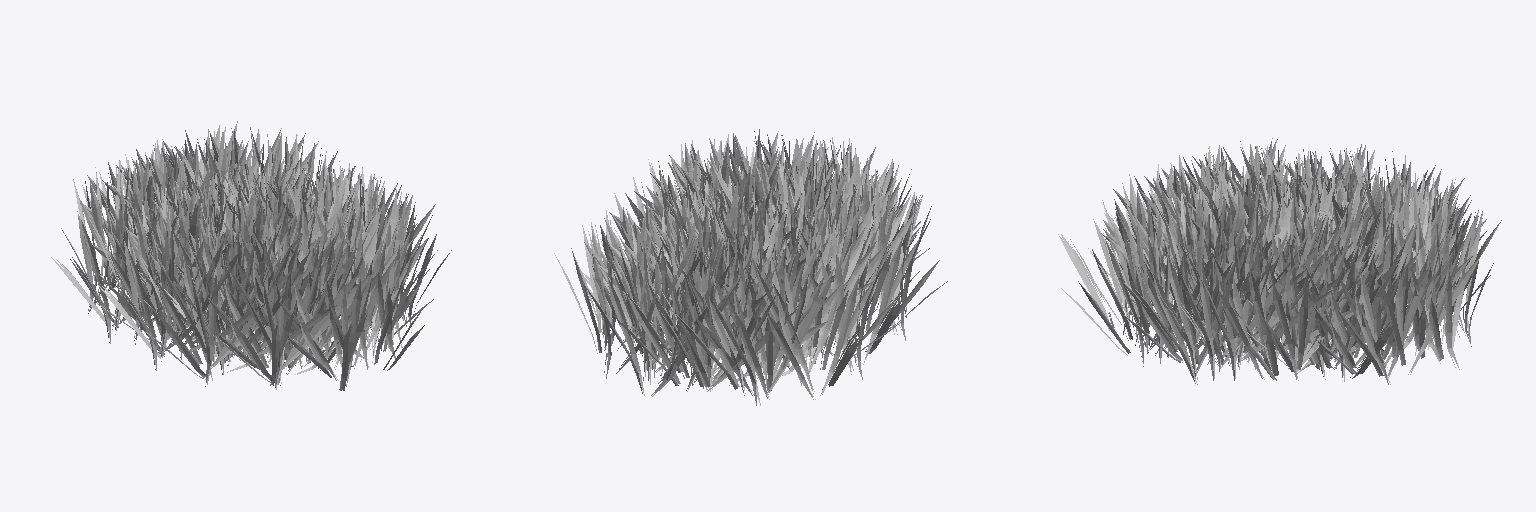
File: water_weeds.obj
3 views of the same model, side by side, from view 1: azimuth 30°, elevation 25°; view 2: azimuth 150°, elevation 25°; view 3: azimuth 270°, elevation 25° (orthographic).
Parts seen in each view (by area): view 1: weed04; view 2: weed04; view 3: weed04.
Part boxes in pixels (x1,y1,x2,y2): weed04: (51,121,451,390); weed04: (554,129,947,405); weed04: (1058,138,1501,384).
Bounding box in the file's own units: 52.84 × 26.49 × 66.96.